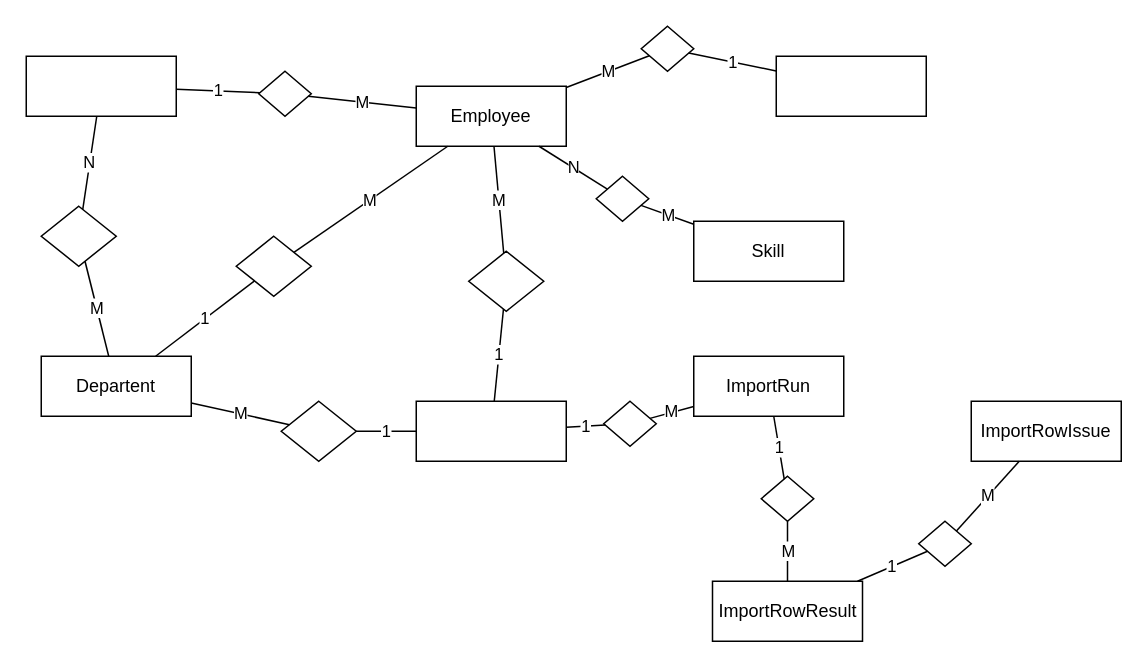
The diagram is 1148 pixels wide and 668 high, and some of its shapes have lost their labels. The centre of each missing label's shape, as x and y in pixels:
"Office" goes at pixel 100 85.
"Organisation" goes at pixel 490 430.
"Role" goes at pixel 850 85.
